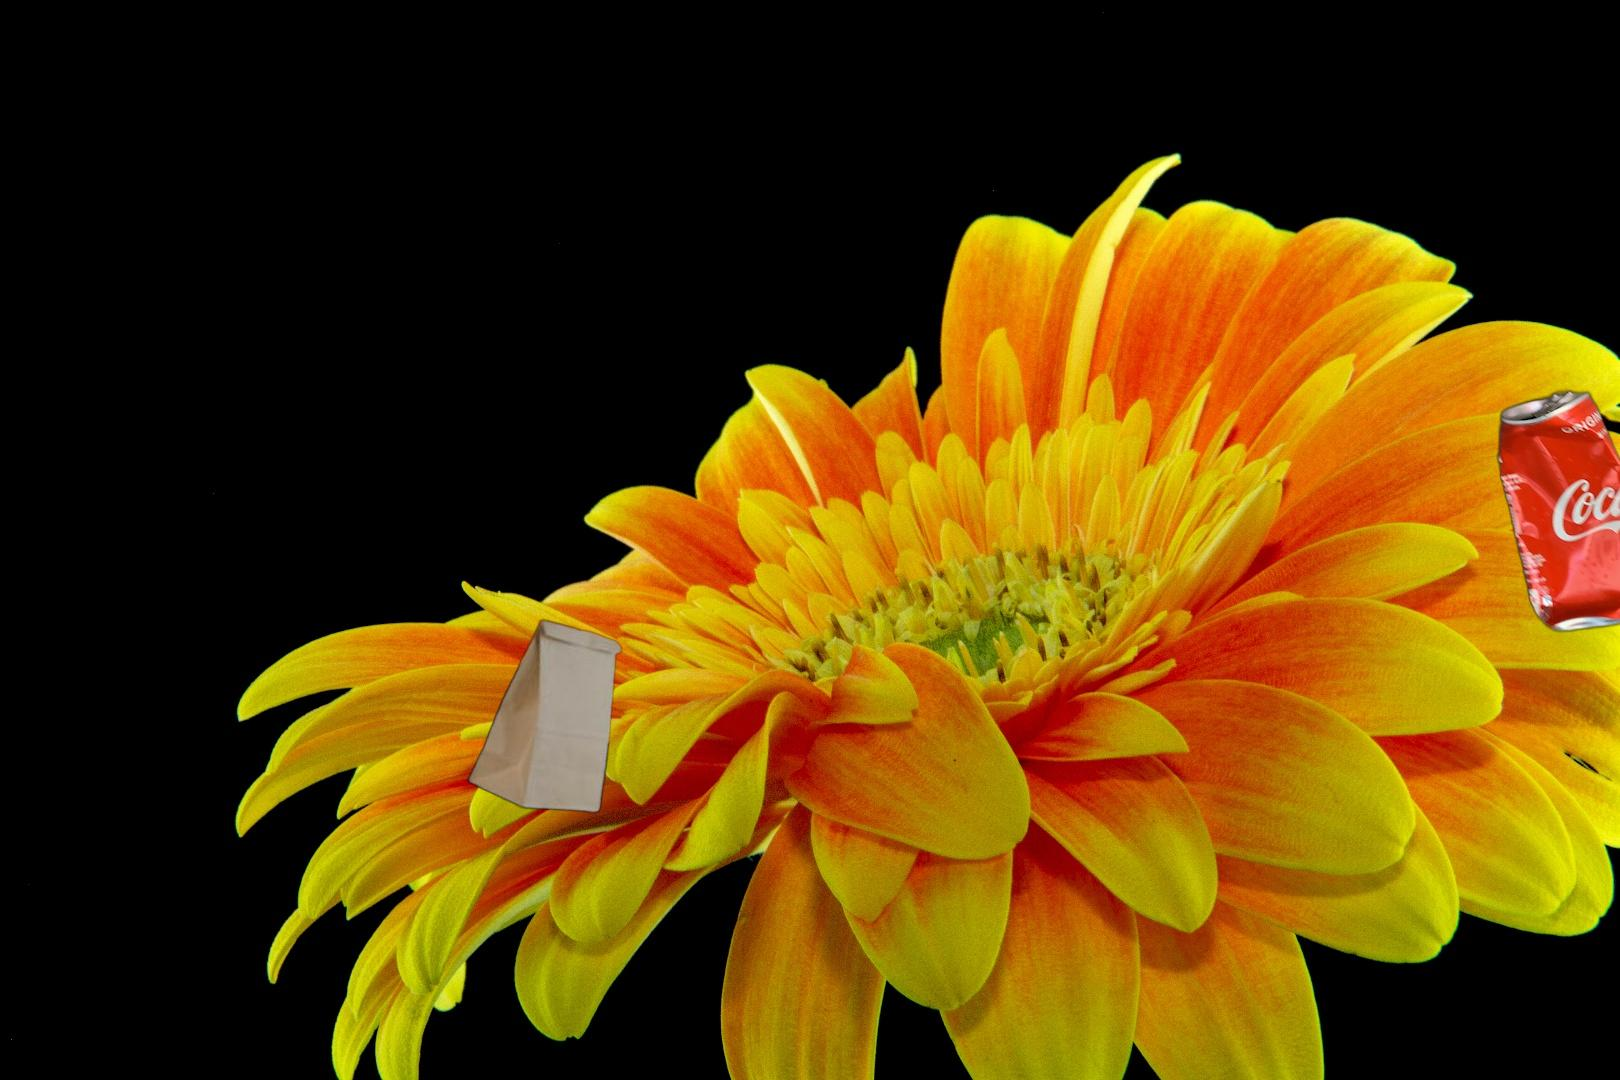metal-cans: (1492, 386, 1620, 638)
paper-bag: (465, 617, 700, 816)
